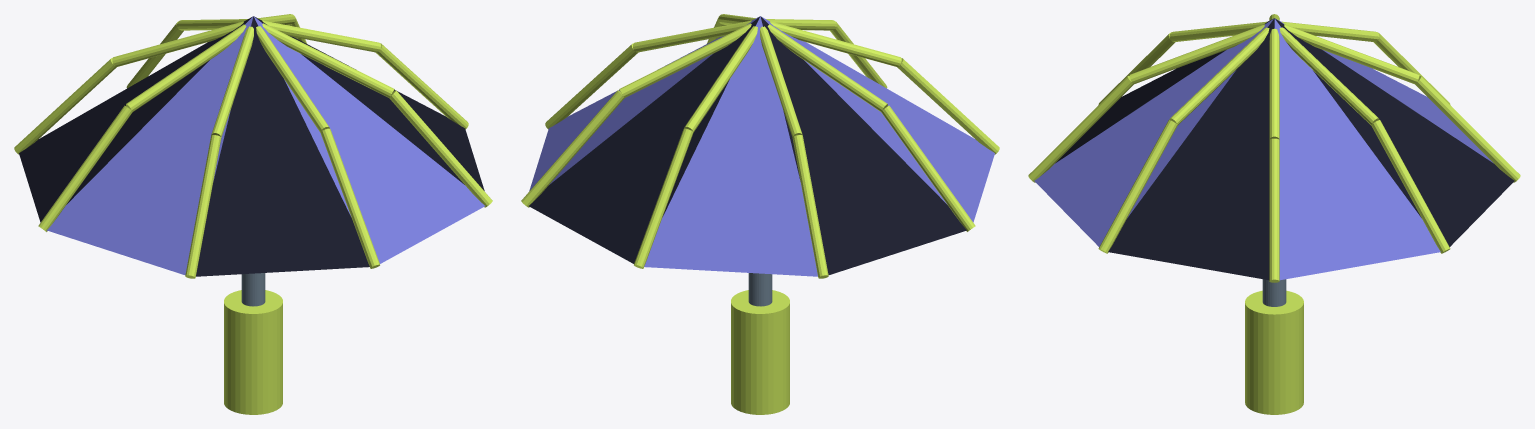
The model's file is foldumbrella.glb.
3 renders of one model, left to right at view 1: azimuth 30°, elevation 25°; view 2: azimuth 150°, elevation 25°; view 3: azimuth 270°, elevation 25°, orthographic.
Visible parts, largest first — view 1: panel2, panel3, panel1, panel4, handle, panel0, rib21, rib41, rib31, rib11, rib10, rib40 (+9 smaller); view 2: panel5, panel4, panel6, panel3, handle, panel7, rib61, rib41, rib51, rib71, rib70, rib40 (+9 smaller); view 3: panel0, panel7, panel1, panel6, handle, panel2, panel5, rib11, rib71, rib01, rib20, rib60 (+10 smaller).
Part boxes in pixels (left/top/right/bottom): panel2: left=196, top=16, right=369, bottom=276; panel3: left=47, top=16, right=253, bottom=274; panel1: left=254, top=17, right=484, bottom=263; panel4: left=19, top=16, right=252, bottom=222; handle: left=224, top=290, right=282, bottom=414; panel0: left=254, top=16, right=484, bottom=190; rib21: left=320, top=128, right=379, bottom=268; rib41: left=38, top=105, right=132, bottom=231; rib31: left=185, top=135, right=221, bottom=278; rib11: left=389, top=90, right=492, bottom=207; rib10: left=262, top=23, right=394, bottom=97; rib40: left=126, top=24, right=246, bottom=111; panel5: left=644, top=16, right=817, bottom=276; panel4: left=760, top=16, right=966, bottom=274; panel6: left=529, top=17, right=759, bottom=263; panel3: left=761, top=16, right=994, bottom=222; handle: left=731, top=290, right=789, bottom=414; panel7: left=529, top=16, right=759, bottom=190; rib61: left=634, top=128, right=693, bottom=268; rib41: left=881, top=105, right=975, bottom=231; rib51: left=792, top=135, right=828, bottom=278; rib71: left=521, top=90, right=624, bottom=207; rib70: left=619, top=23, right=751, bottom=97; rib40: left=767, top=24, right=887, bottom=111; panel0: left=1108, top=18, right=1274, bottom=280; panel7: left=1274, top=19, right=1440, bottom=280; panel1: left=1034, top=18, right=1273, bottom=246; panel6: left=1275, top=18, right=1514, bottom=246; handle: left=1245, top=290, right=1303, bottom=414; panel2: left=1055, top=18, right=1273, bottom=163; panel5: left=1275, top=18, right=1493, bottom=163; rib11: left=1098, top=120, right=1177, bottom=253; rib71: left=1371, top=120, right=1450, bottom=253; rib01: left=1269, top=138, right=1279, bottom=282; rib20: left=1129, top=24, right=1264, bottom=84; rib60: left=1284, top=24, right=1419, bottom=84.
Bounding box in the file's own units: 1.67 × 1.44 × 1.67.
